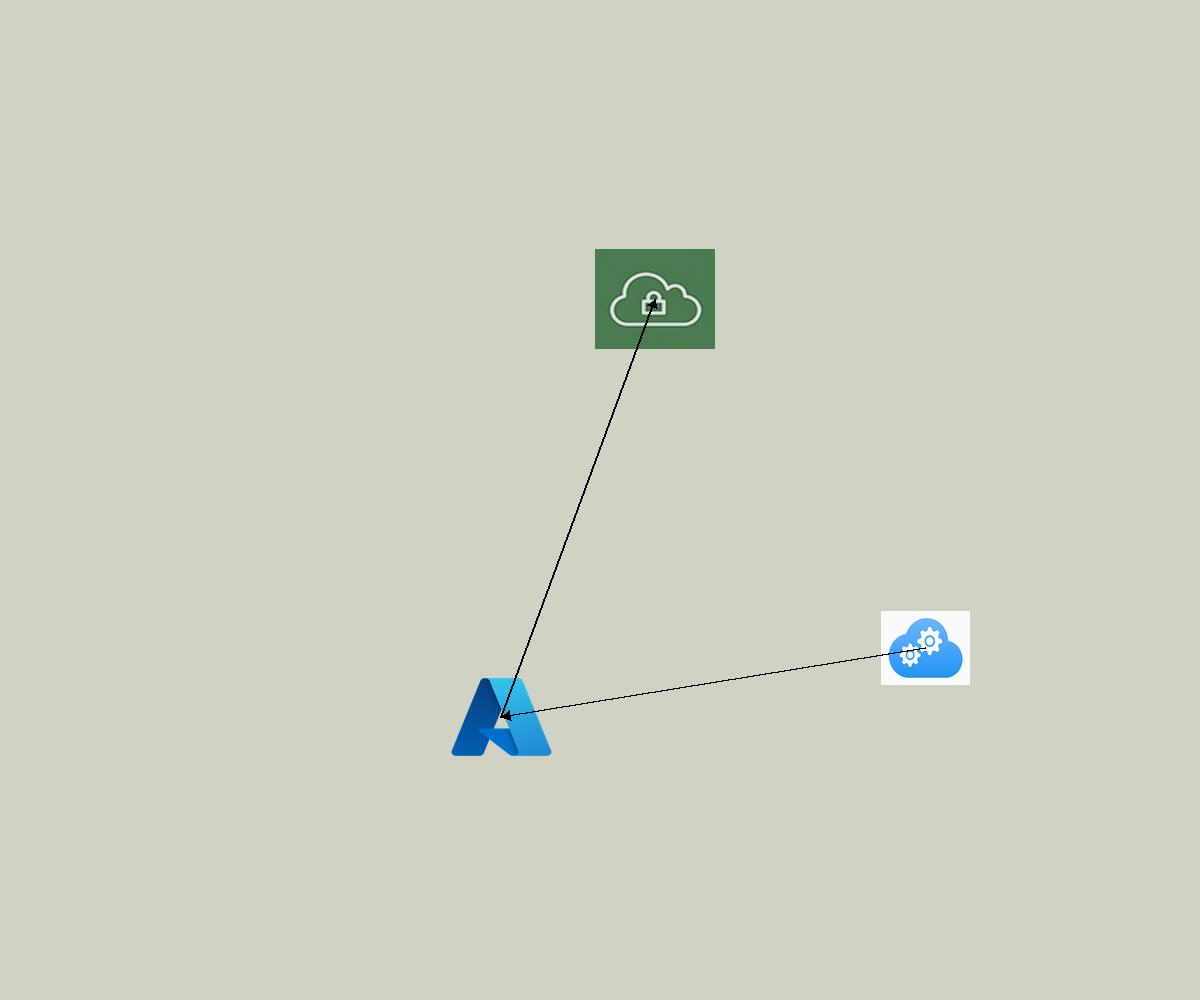AWS-Private_vpc: (595, 249, 715, 349)
Azure_cloud_services: (881, 611, 970, 685)
Azure_services: (447, 672, 556, 762)
